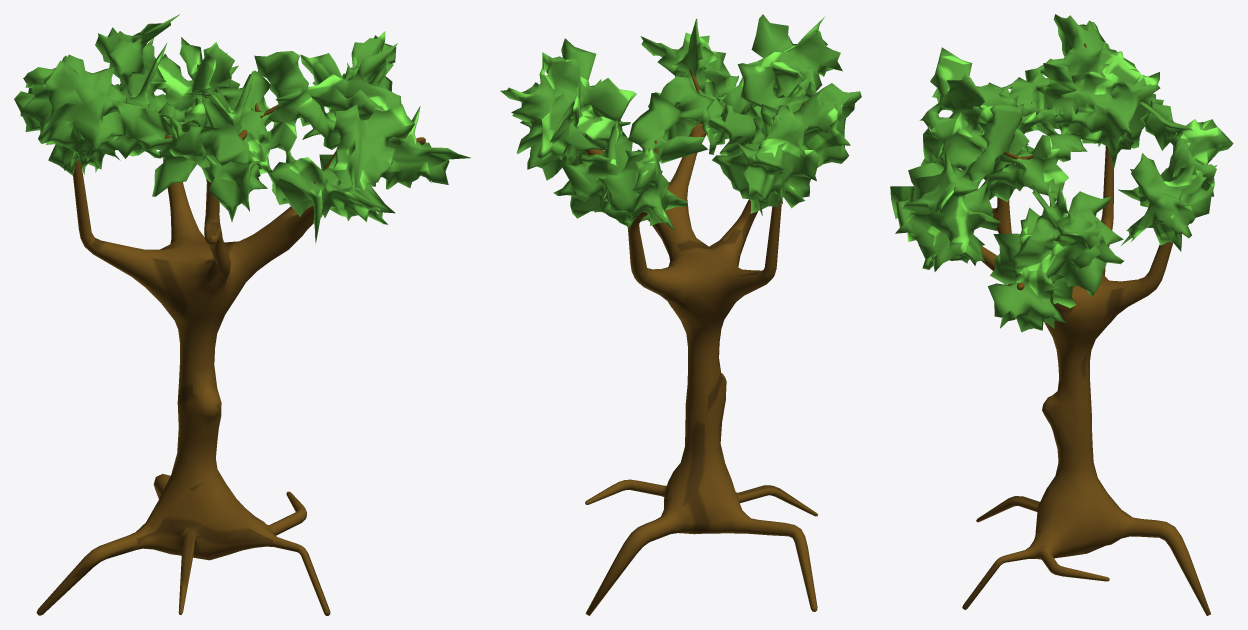
Rendered from arbol4Dec.fbx.
3 renders of one model, left to right at view 1: azimuth 30°, elevation 25°; view 2: azimuth 150°, elevation 25°; view 3: azimuth 270°, elevation 25°, orthographic. The views are drawn at different scales.
Parts seen in each view (by area): view 1: Arbol4; view 2: Arbol4; view 3: Arbol4.
Part boxes in pixels (x1=…): Arbol4: x1=14, y1=14, x2=470, y2=615; Arbol4: x1=500, y1=14, x2=861, y2=615; Arbol4: x1=890, y1=14, x2=1233, y2=615.
Size of the model in its own units: 714 by 990 by 593.
Materials: 2 (2 with a texture image).
